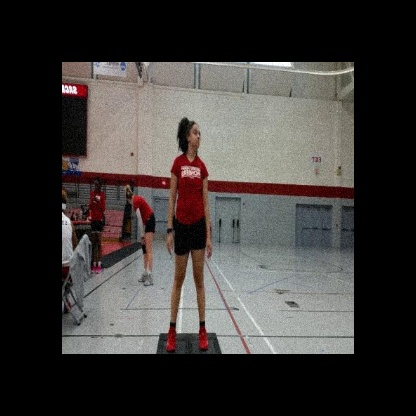lateral_flexion_left: (163, 104, 215, 354)
stance_width_normal: (163, 152, 214, 353)
